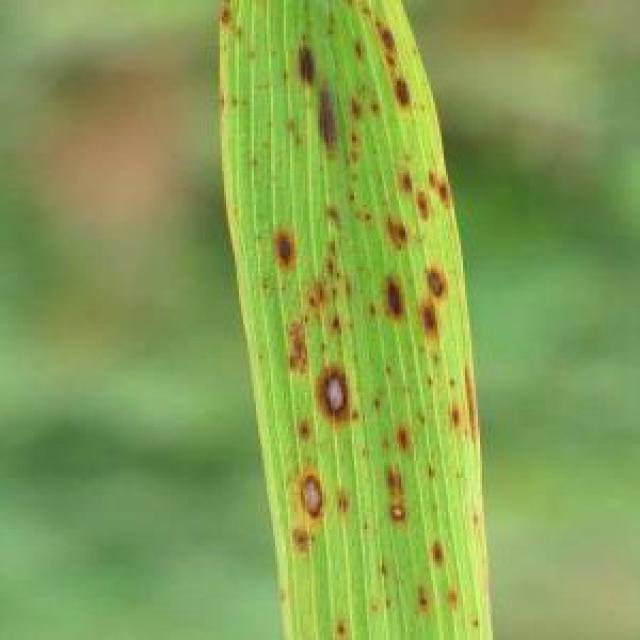Rice: (304, 246, 362, 336), (384, 155, 454, 223), (281, 466, 336, 548), (412, 266, 467, 347), (344, 73, 428, 124), (346, 9, 412, 66), (312, 78, 352, 164), (280, 306, 322, 387), (258, 222, 312, 274), (363, 273, 410, 329), (374, 466, 410, 526), (288, 32, 323, 92), (321, 372, 359, 416), (316, 202, 352, 234), (389, 418, 417, 456), (427, 538, 452, 570), (284, 420, 320, 442)
